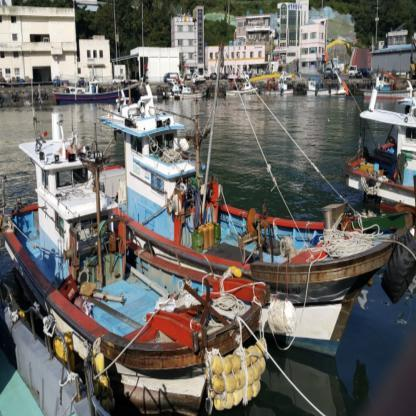Ship: (93, 71, 406, 376), (2, 94, 288, 416)
